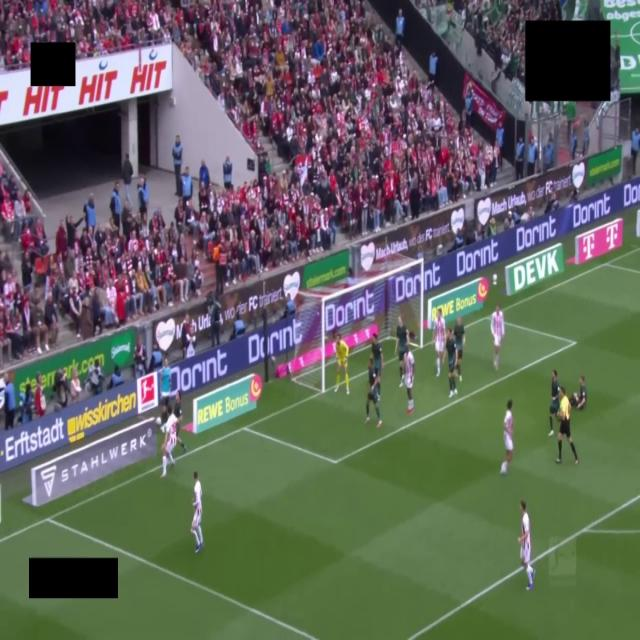player: (160, 392, 186, 453), (518, 501, 535, 590), (366, 358, 381, 428), (161, 414, 177, 477), (443, 328, 457, 398), (191, 472, 203, 552), (432, 308, 446, 375), (501, 400, 513, 475), (395, 317, 408, 386), (491, 305, 504, 369), (335, 335, 349, 394), (173, 392, 186, 453), (454, 316, 465, 381), (404, 344, 414, 414), (549, 369, 559, 436), (372, 334, 383, 393), (570, 376, 586, 410)
referee: (557, 387, 578, 464)
